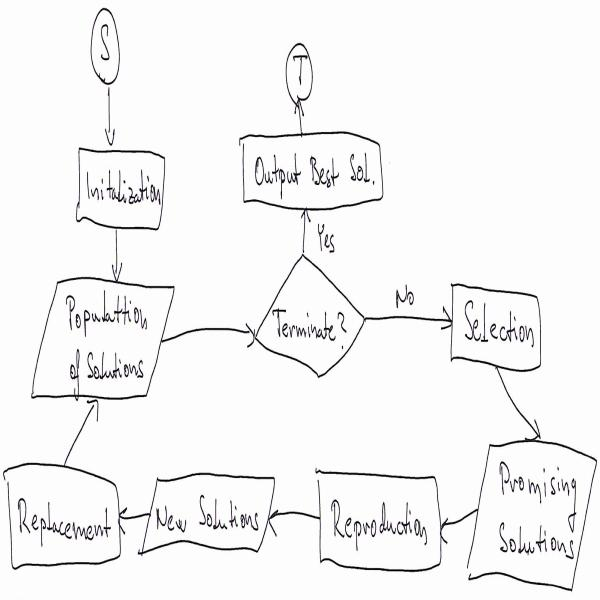arrow: (490, 367, 545, 447), (59, 392, 105, 471), (165, 317, 256, 352), (366, 301, 452, 335), (268, 497, 321, 541), (441, 498, 479, 546), (117, 500, 150, 541), (104, 78, 116, 147), (298, 202, 312, 258), (109, 221, 122, 281), (292, 99, 312, 137)
data: (467, 437, 596, 596), (29, 275, 177, 400), (142, 469, 276, 556)
decision: (254, 249, 365, 388)
process: (312, 460, 446, 579), (2, 460, 122, 577), (240, 123, 387, 214), (450, 270, 544, 373), (76, 140, 166, 239)
terminator: (86, 6, 128, 88), (283, 40, 317, 104)
text: (57, 300, 151, 390), (497, 464, 576, 565), (329, 485, 430, 547), (251, 149, 373, 195), (12, 487, 112, 543), (156, 493, 260, 537), (84, 155, 160, 214), (460, 296, 536, 353), (275, 304, 349, 348), (316, 224, 337, 257), (395, 276, 416, 309), (98, 18, 112, 64), (294, 48, 308, 90)
